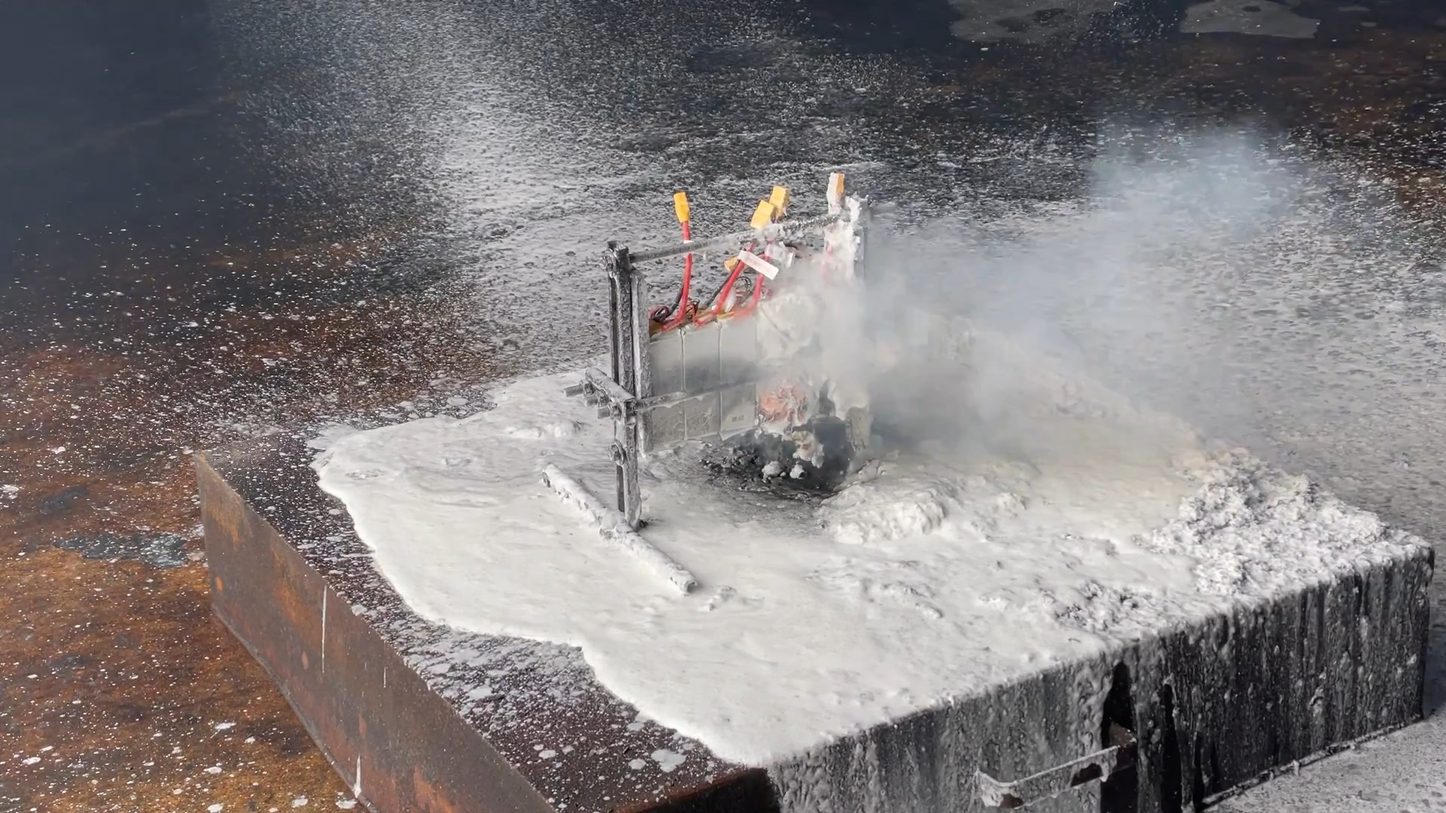smoke: (765, 117, 1320, 497)
